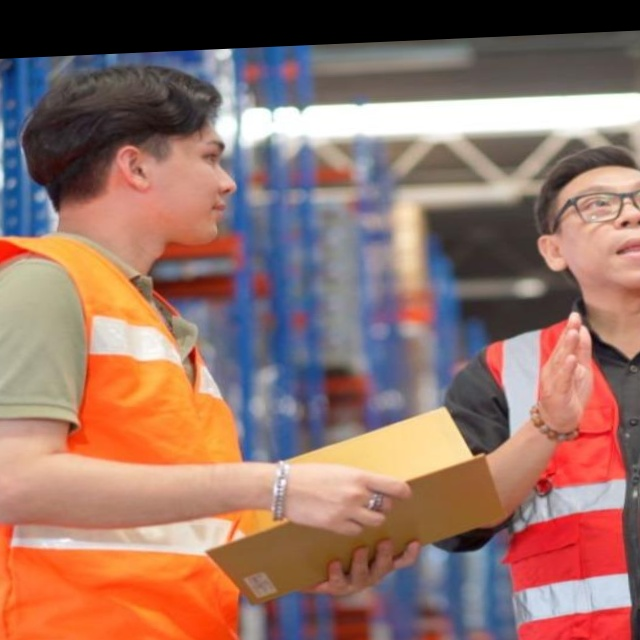Con_Chaleco: (0, 224, 248, 640), (467, 307, 640, 640)
Sin_Casco_Mascarrilla: (18, 62, 237, 246), (535, 143, 640, 302)
